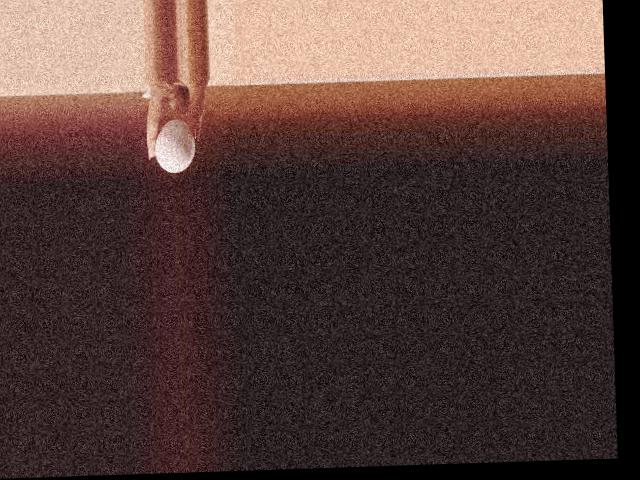egg: (154, 118, 196, 173)
